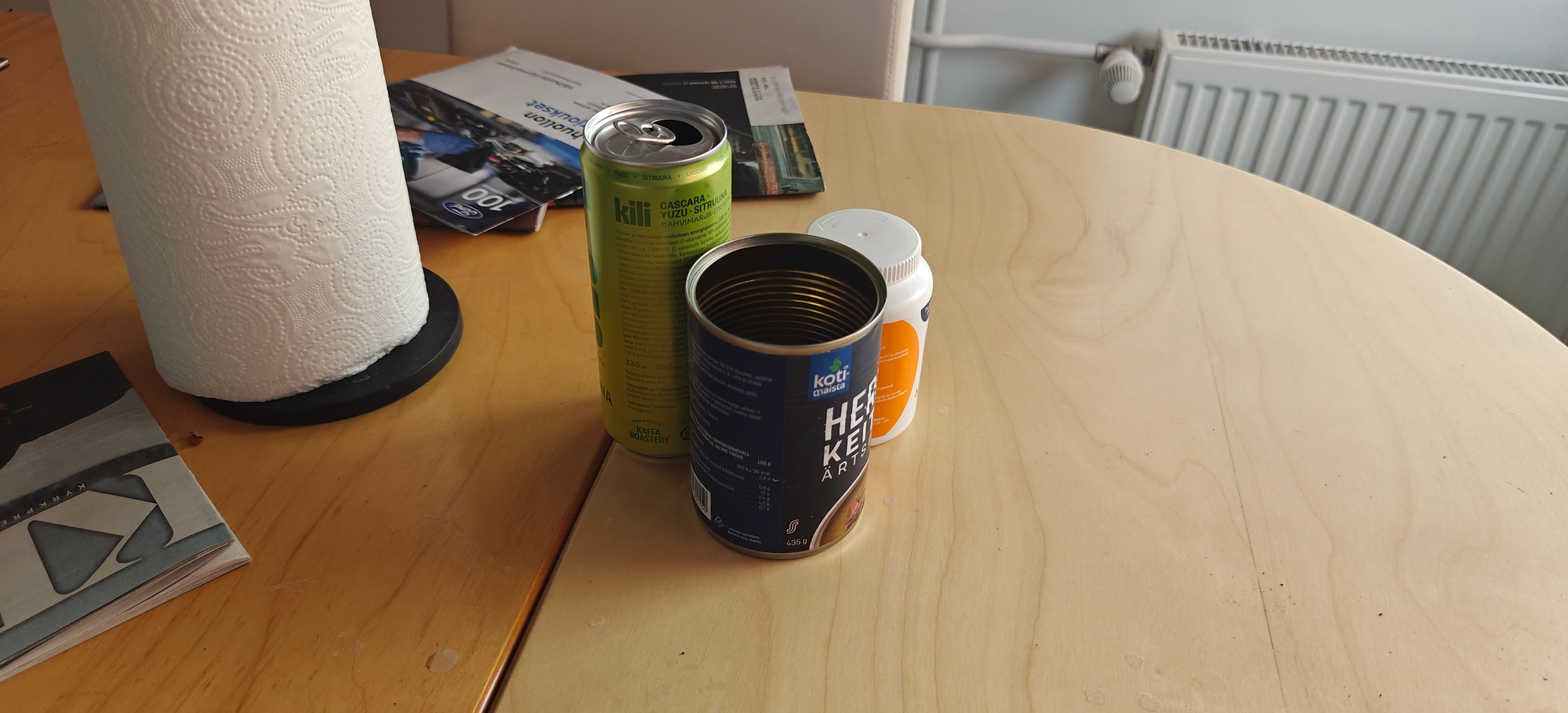Konservburk: (685, 233, 887, 560)
Pantburk: (579, 100, 732, 457)
